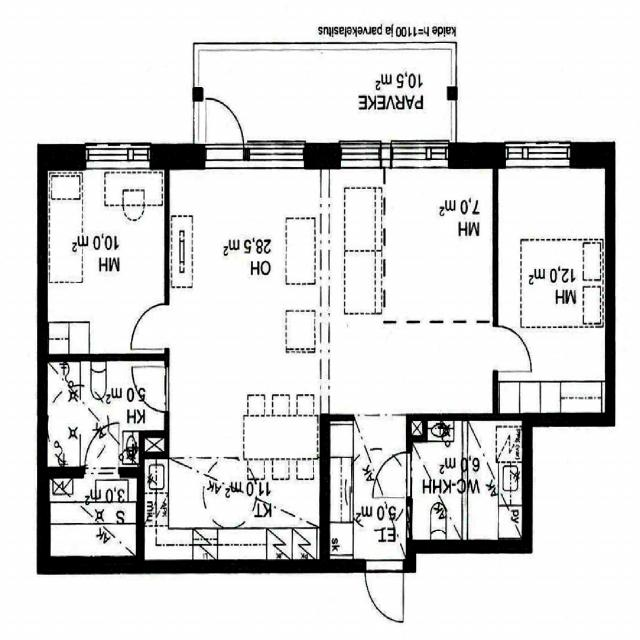door: (204, 92, 243, 169), (366, 559, 404, 623), (492, 325, 532, 370), (85, 423, 117, 478), (131, 366, 170, 410), (373, 453, 412, 497), (131, 304, 169, 348)
